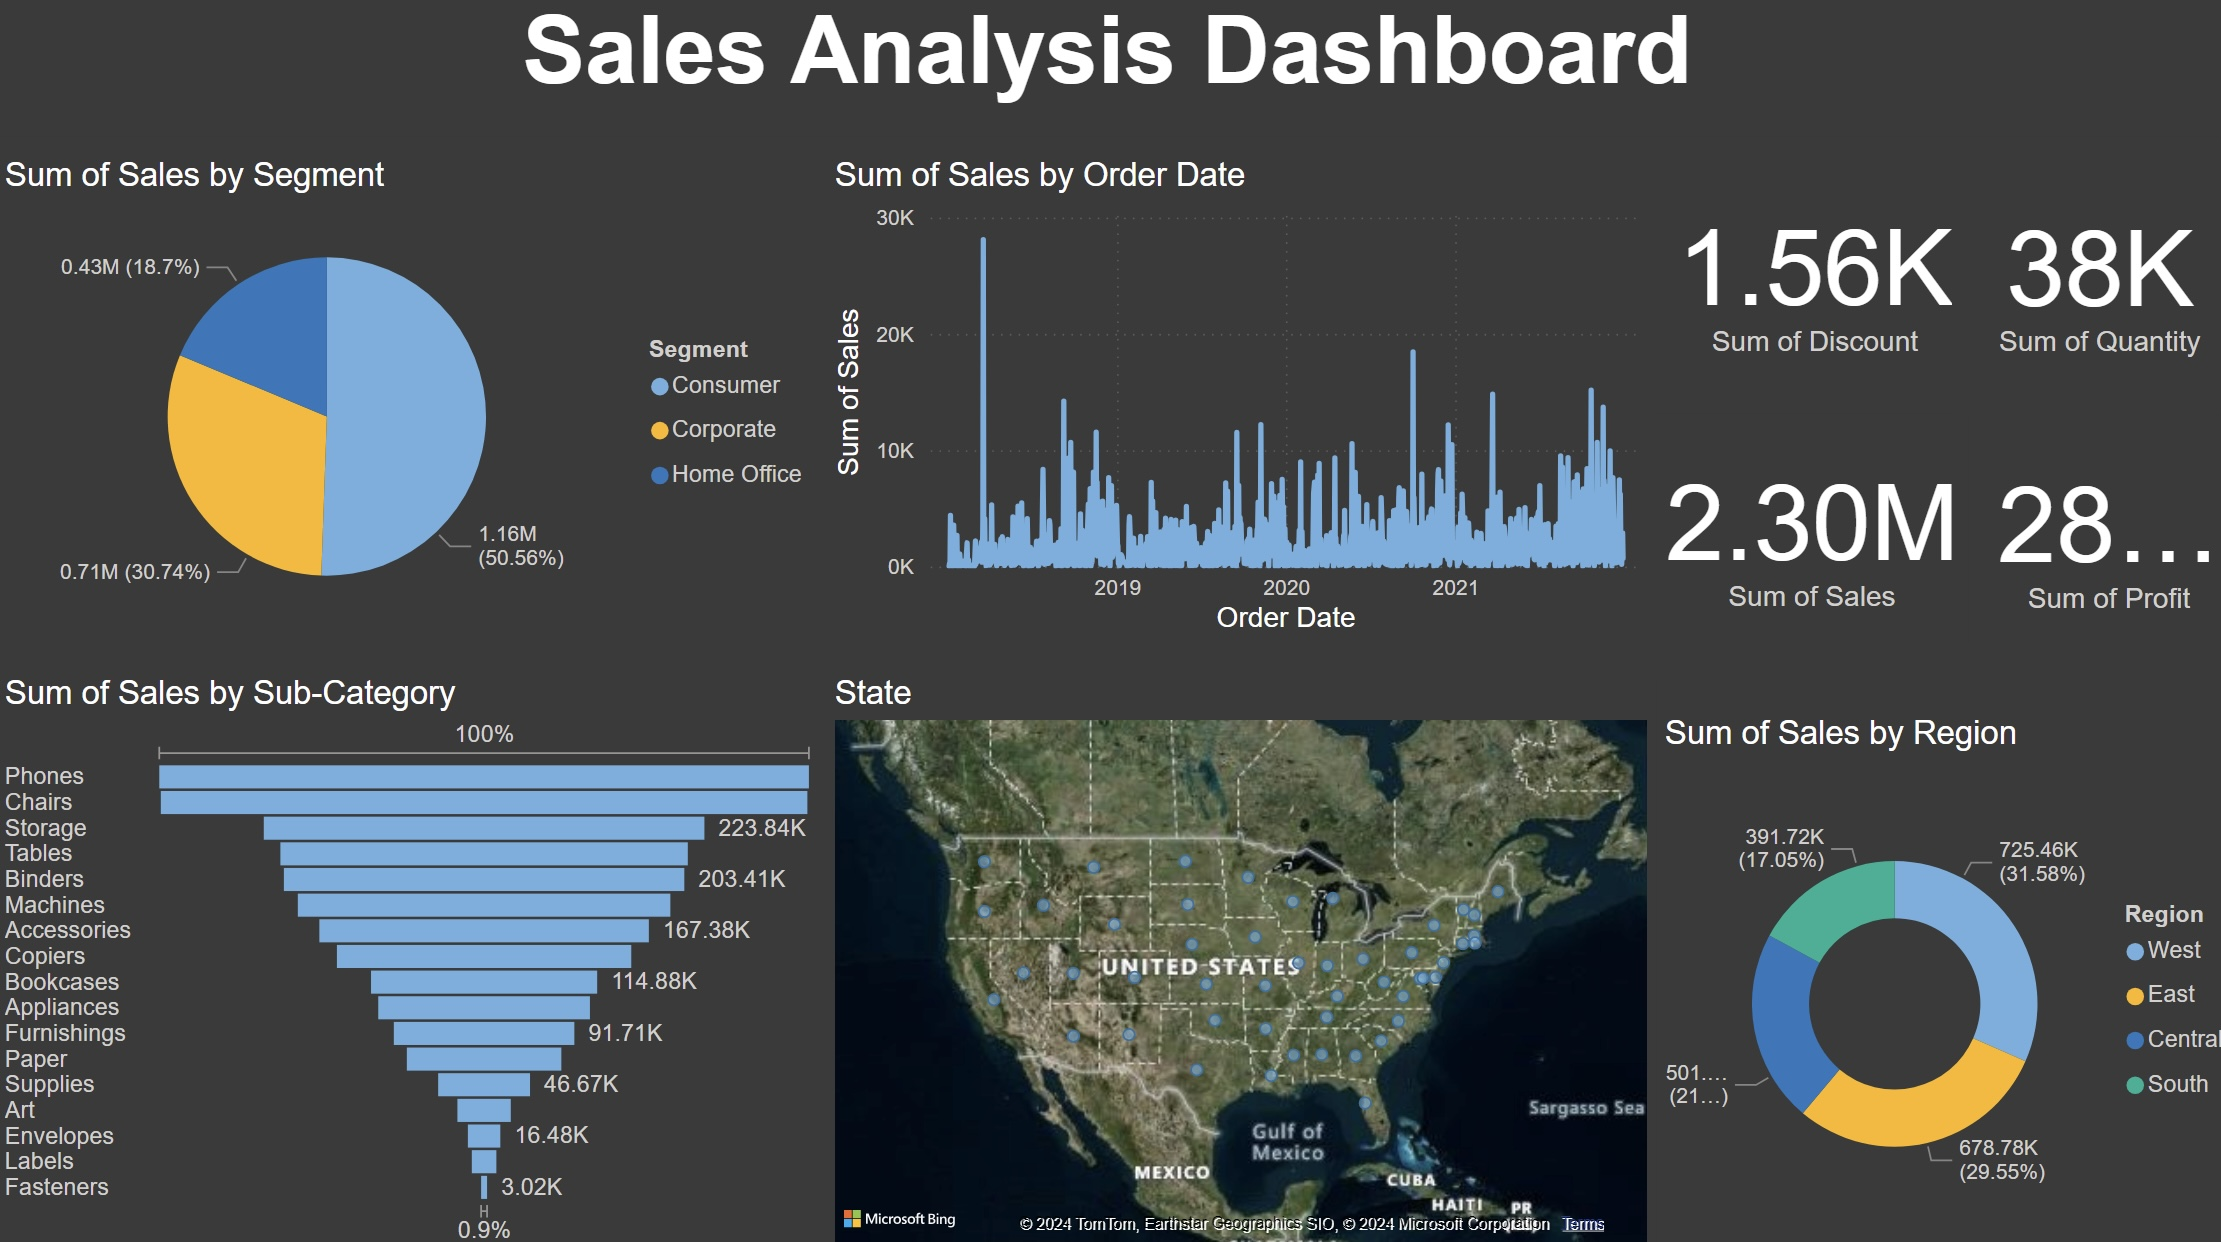

The page's visual inventory and layout, read from the dashboard file:
{"tool":"powerbi","page":{"name":"Sales Analysis Dashboard","canvas":[1280,720],"ordinal":7},"visuals":[{"type":"donutChart","fields":{"Category":["Orders.Region"],"Y":["Sum(Orders.Sales)"]},"box":[944.6,412.4,337.5,308.7],"z":0},{"type":"funnel","fields":{"Category":["Orders.Sub-Category"],"Y":["Sum(Orders.Sales)"]},"box":[0,390.5,472.3,329.5],"z":1000},{"type":"map","fields":{"Category":["Orders.State"]},"box":[472.3,390.5,472.3,329.5],"z":2000},{"type":"pieChart","fields":{"Category":["Orders.Segment"],"Y":["Sum(Orders.Sales)"]},"box":[0,95.6,472.3,275.3],"z":3000},{"type":"lineChart","fields":{"Category":["Orders.Order Date"],"Y":["Sum(Orders.Sales)"]},"box":[472.3,95.6,472.3,276.5],"z":4000},{"type":"card","fields":{"Values":["Sum(Orders.Sales)"]},"box":[944.1,243.4,177.4,129.7],"z":5000},{"type":"card","fields":{"Values":["Sum(Orders.Discount)"]},"box":[944.1,84.2,180.9,158.1],"z":6000},{"type":"card","fields":{"Values":["Sum(Orders.Quantity)"]},"box":[1111.9,84.7,168.1,159],"z":7000},{"type":"card","fields":{"Values":["Sum(Orders.Profit)"]},"box":[1124.9,243.4,153.6,131.9],"z":8000},{"type":"textbox","box":[0,0,1278.7,84.7],"z":9000}]}

Visuals, with their boxes in screenshot pixels (x1, y1, x2, y2), scaled from the page's 1280x720 canvas onto the 2221x1242 screenshot:
donutChart - Orders.Region x Sum(Orders.Sales): {"x1": 1639, "y1": 711, "x2": 2220, "y2": 1241}
funnel - Orders.Sub-Category x Sum(Orders.Sales): {"x1": 0, "y1": 674, "x2": 820, "y2": 1241}
map - Orders.State: {"x1": 820, "y1": 674, "x2": 1639, "y2": 1241}
pieChart - Orders.Segment x Sum(Orders.Sales): {"x1": 0, "y1": 165, "x2": 820, "y2": 640}
lineChart - Orders.Order Date x Sum(Orders.Sales): {"x1": 820, "y1": 165, "x2": 1639, "y2": 642}
card - Sum(Orders.Sales): {"x1": 1638, "y1": 420, "x2": 1946, "y2": 644}
card - Sum(Orders.Discount): {"x1": 1638, "y1": 145, "x2": 1952, "y2": 418}
card - Sum(Orders.Quantity): {"x1": 1929, "y1": 146, "x2": 2220, "y2": 420}
card - Sum(Orders.Profit): {"x1": 1952, "y1": 420, "x2": 2218, "y2": 647}
textbox: {"x1": 0, "y1": 0, "x2": 2219, "y2": 146}
